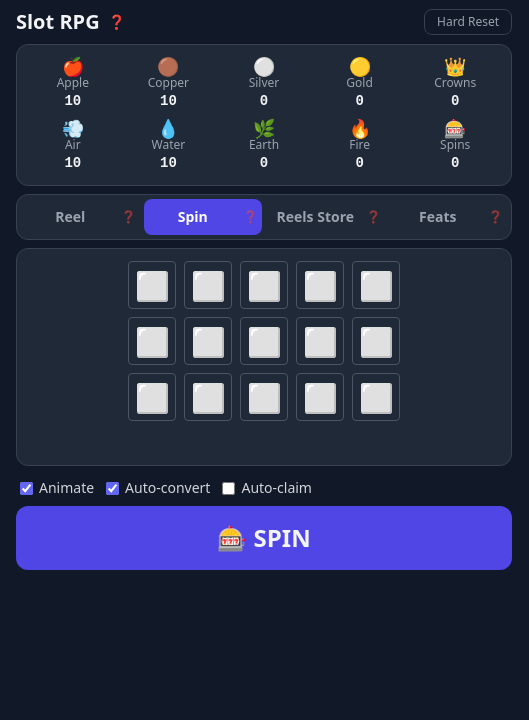
it: full spin flow integration › shows CLAIM button after spin animation completes
Click the button with aria-label "Spin the reels" at (264, 538), box [16,506,512,570]
Wait 5000 ms
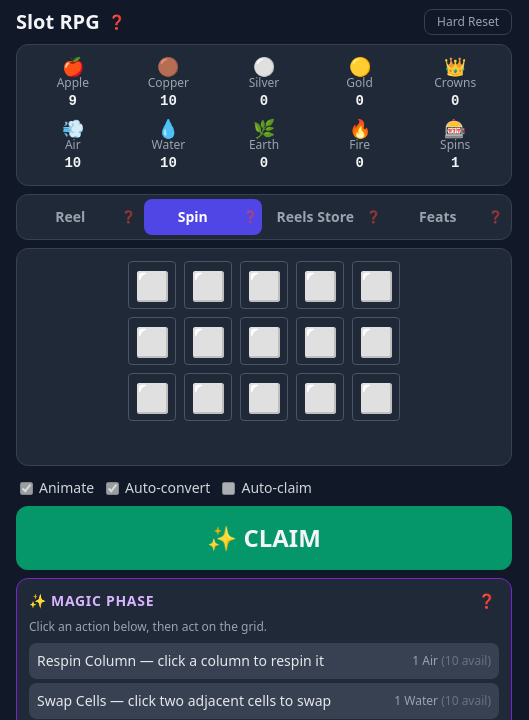
Now the button with aria-label "Claim spin result" is shown, box [16,506,512,570]
